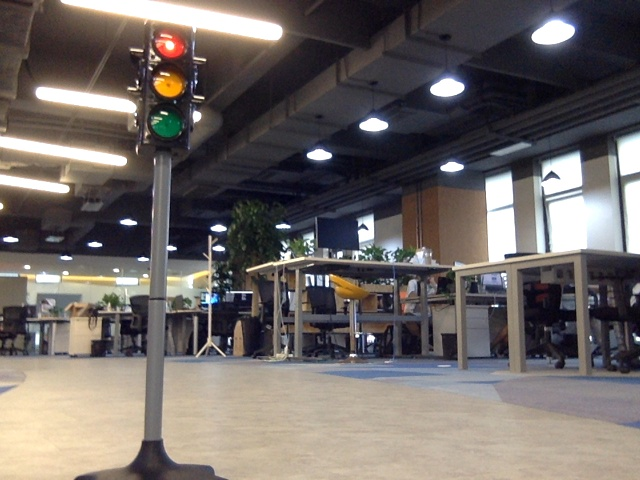red: (151, 29, 185, 143)
